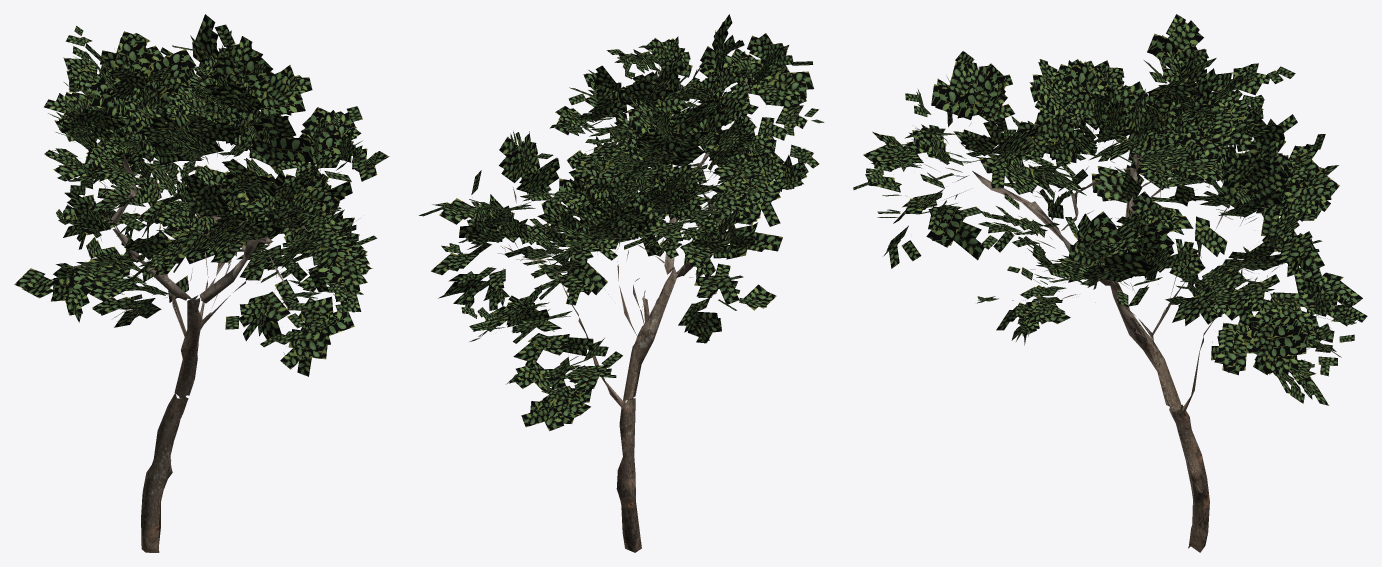
The model's file is tree-far.glb.
3 views of the same model, side by side, from view 1: azimuth 30°, elevation 25°; view 2: azimuth 150°, elevation 25°; view 3: azimuth 270°, elevation 25° (orthographic). The views are drawn at different scales.
Visible parts, largest first — view 1: tree_small_02_LOD0.002, Restored_trunk_far; view 2: tree_small_02_LOD0.002, Restored_trunk_far; view 3: tree_small_02_LOD0.002, Restored_trunk_far, Restored_branches_far.
Boxes of the visible parts, bbox=[...] form: tree_small_02_LOD0.002: bbox=[14, 14, 389, 376]; Restored_trunk_far: bbox=[107, 155, 290, 552]; tree_small_02_LOD0.002: bbox=[419, 14, 824, 431]; Restored_trunk_far: bbox=[547, 153, 720, 552]; tree_small_02_LOD0.002: bbox=[853, 14, 1367, 405]; Restored_trunk_far: bbox=[972, 154, 1242, 552]; Restored_branches_far: bbox=[893, 82, 1331, 359].
Bounding box in the file's own units: 2.98 × 4.61 × 4.32.
3 materials, 3 textured.
